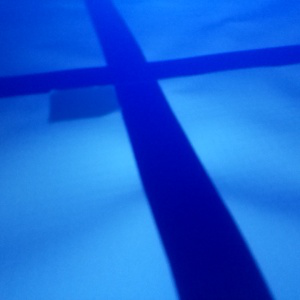bottom_left: (48, 72, 156, 123)
